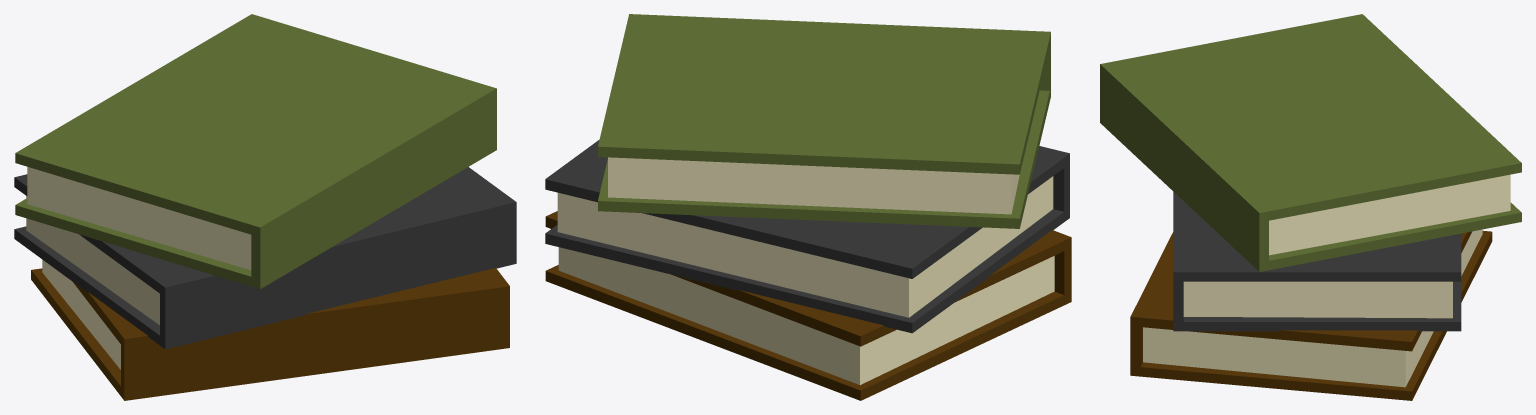
Rendered from 三本日记.fbx.
3 views of the same model, side by side, from view 1: azimuth 30°, elevation 25°; view 2: azimuth 150°, elevation 25°; view 3: azimuth 270°, elevation 25° (orthographic). The views are drawn at different scales.
Parts seen in each view (by area): view 1: 厚书.002, 厚书.001, 厚书; view 2: 厚书.002, 厚书.001, 厚书; view 3: 厚书.002, 厚书.001, 厚书.
Boxes of the visible parts, bbox=[...] form: 厚书.002: bbox=[15, 14, 496, 289]; 厚书.001: bbox=[14, 167, 516, 349]; 厚书: bbox=[31, 259, 509, 400]; 厚书.002: bbox=[598, 14, 1050, 228]; 厚书.001: bbox=[545, 140, 1069, 333]; 厚书: bbox=[545, 211, 1071, 400]; 厚书.002: bbox=[1100, 14, 1521, 271]; 厚书.001: bbox=[1173, 192, 1461, 331]; 厚书: bbox=[1130, 229, 1492, 400].
Bounding box in the file's own units: 139 × 60.97 × 124.
